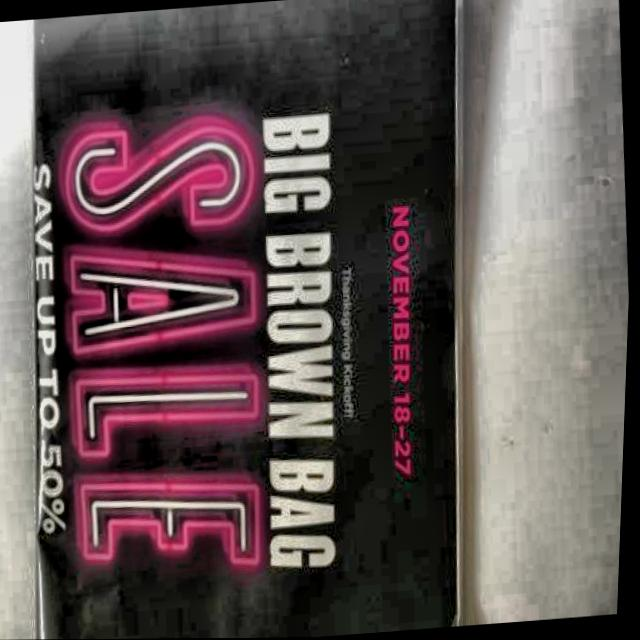Paper: (0, 0, 506, 640)
